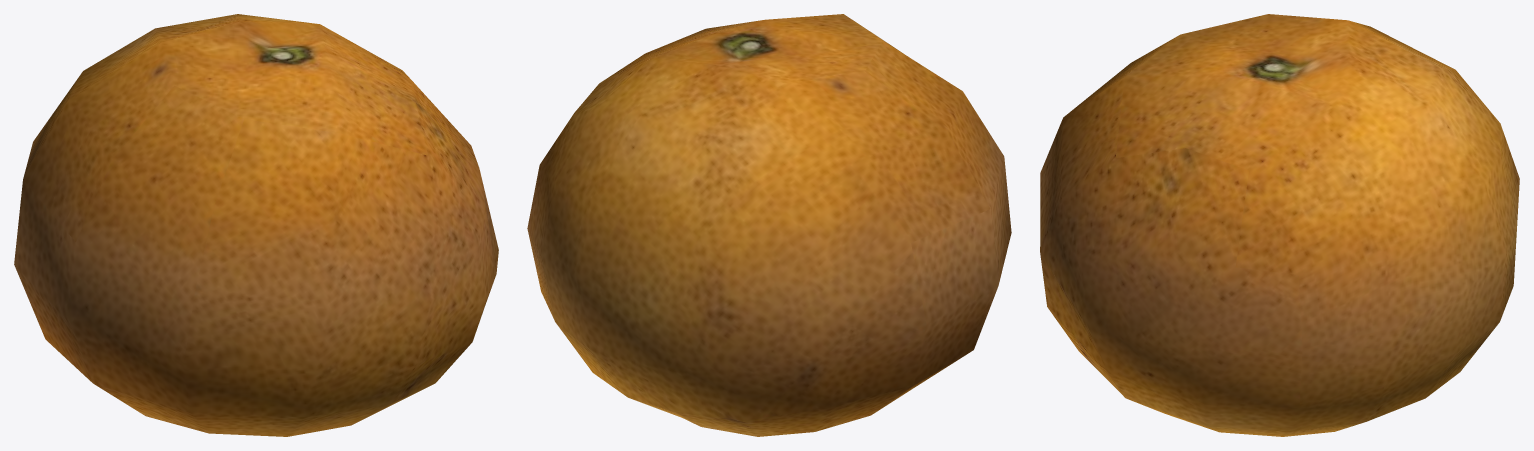
Rendered from A17_Satsuma_low.fbx.
3 renders of one model, left to right at view 1: azimuth 30°, elevation 25°; view 2: azimuth 150°, elevation 25°; view 3: azimuth 270°, elevation 25°, orthographic.
Visible parts, largest first — view 1: A17_Satsuma_low; view 2: A17_Satsuma_low; view 3: A17_Satsuma_low.
Part boxes in pixels (x1=…): A17_Satsuma_low: x1=14, y1=14, x2=498, y2=436; A17_Satsuma_low: x1=527, y1=14, x2=1011, y2=436; A17_Satsuma_low: x1=1040, y1=14, x2=1519, y2=436.
Bounding box in the file's own units: 7.17 × 7.11 × 5.65.
Materials: 1 (1 with a texture image).
